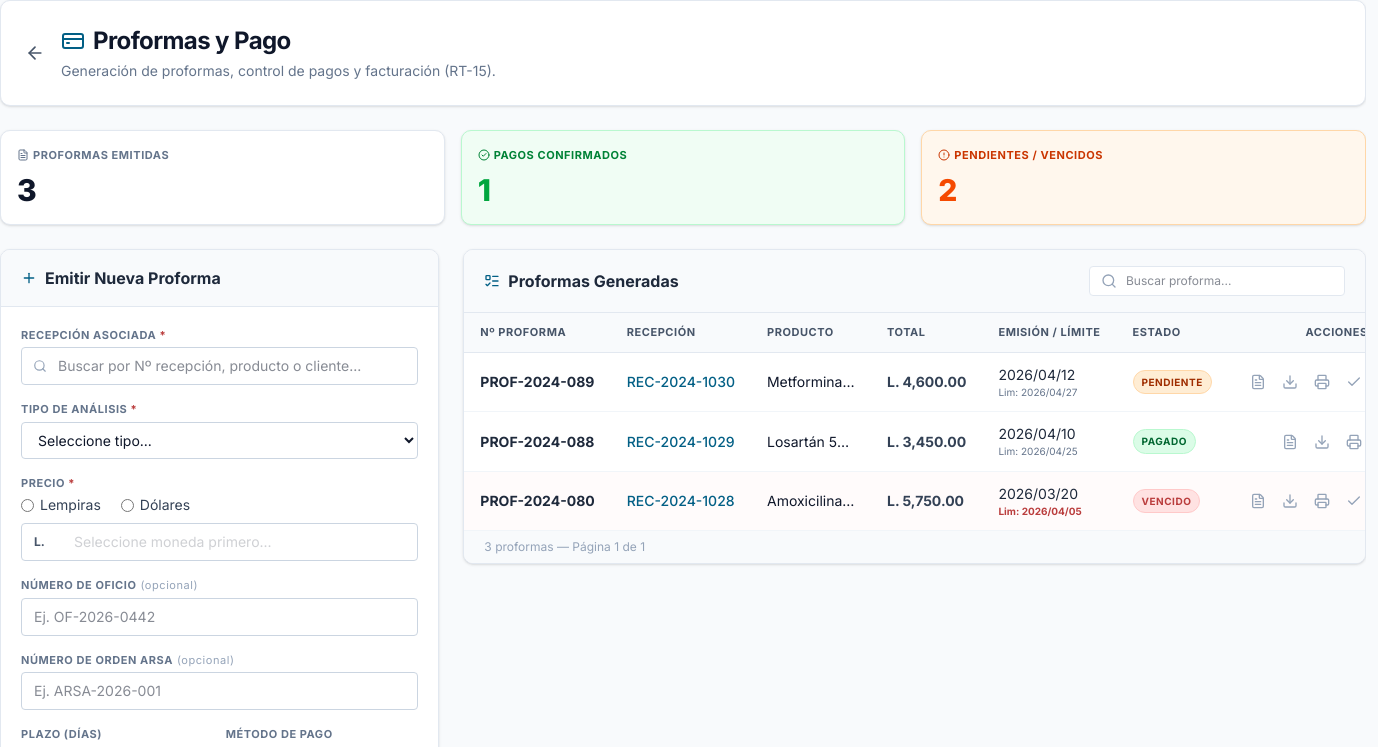
Test: ProformasPagoPage — /rac/proformas › Recepción — autocomplete, no select estático › muestra resultados al escribir en el campo
In the field with test id "recepcion-search": (220, 366) [21,347,418,385], type "metformina"
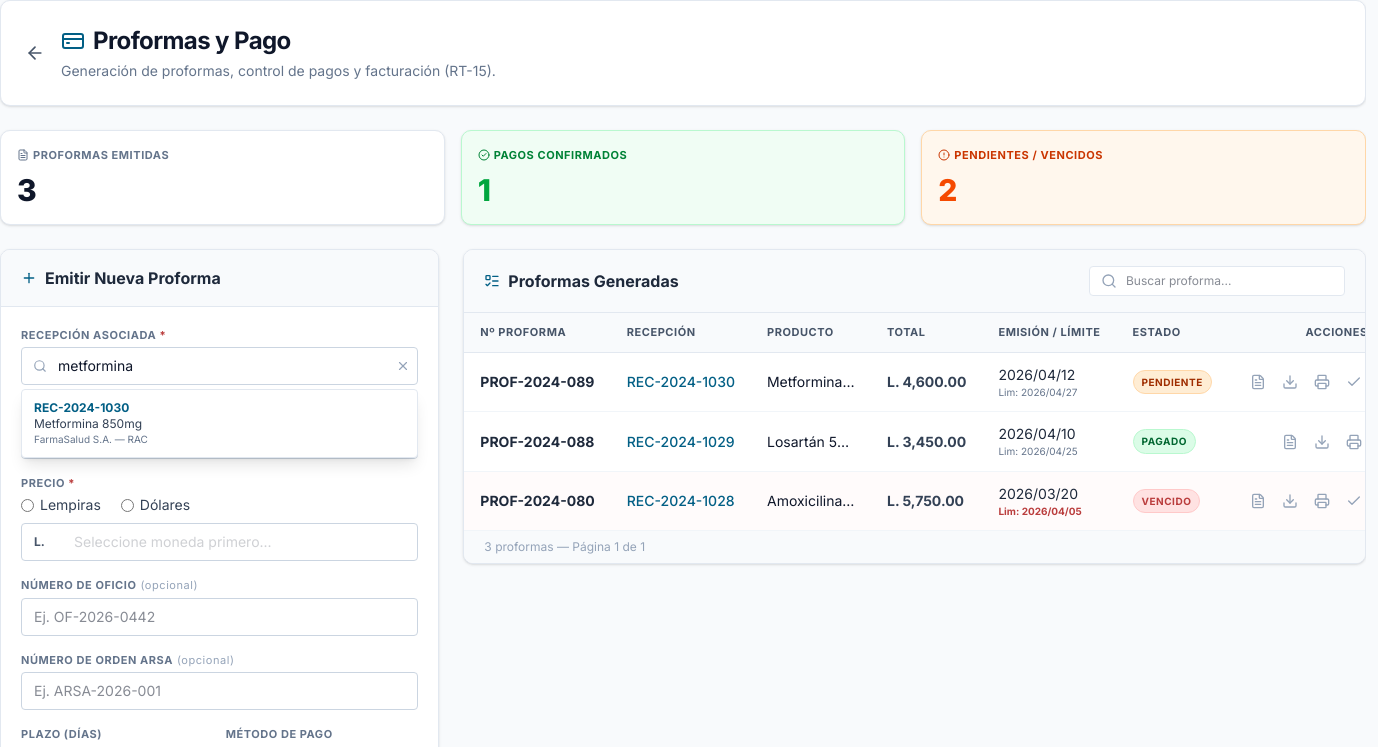
Expected: the list with test id "recepcion-dropdown" is shown, [21,389,418,458]
Expected: the button with test id "recepcion-option" is shown, [22,390,417,457]
